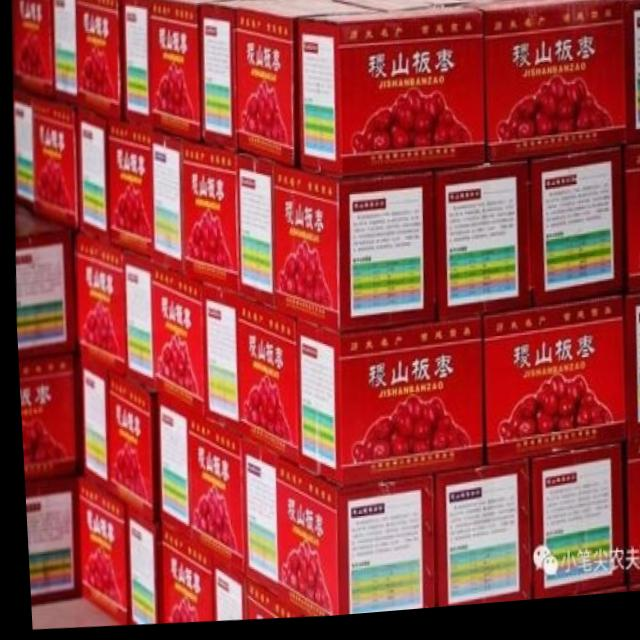box: (292, 321, 480, 491), (297, 17, 483, 185), (449, 5, 626, 173), (268, 167, 432, 339), (235, 1, 383, 173), (272, 460, 428, 621), (478, 306, 622, 473), (199, 0, 303, 153), (431, 170, 529, 326), (524, 157, 619, 314), (524, 450, 618, 607), (148, 0, 246, 146), (429, 468, 526, 614), (234, 299, 296, 471), (11, 88, 76, 233), (178, 143, 236, 292), (184, 420, 239, 577), (148, 262, 200, 426), (12, 231, 72, 361), (103, 373, 149, 537), (73, 474, 122, 627), (15, 354, 73, 482), (70, 235, 121, 380), (20, 476, 73, 607), (106, 122, 150, 260), (235, 440, 272, 603), (236, 153, 272, 312), (76, 0, 121, 126), (153, 521, 206, 625), (200, 285, 234, 440), (153, 394, 185, 544), (11, 0, 52, 101), (150, 132, 179, 274), (76, 108, 106, 244), (121, 253, 150, 392), (76, 354, 103, 494), (121, 0, 148, 133), (51, 0, 78, 110), (122, 516, 148, 625), (621, 304, 640, 450), (622, 155, 640, 304), (622, 448, 640, 596), (324, 0, 470, 18), (623, 6, 640, 154), (206, 558, 240, 624), (240, 580, 293, 621), (432, 0, 568, 12)
